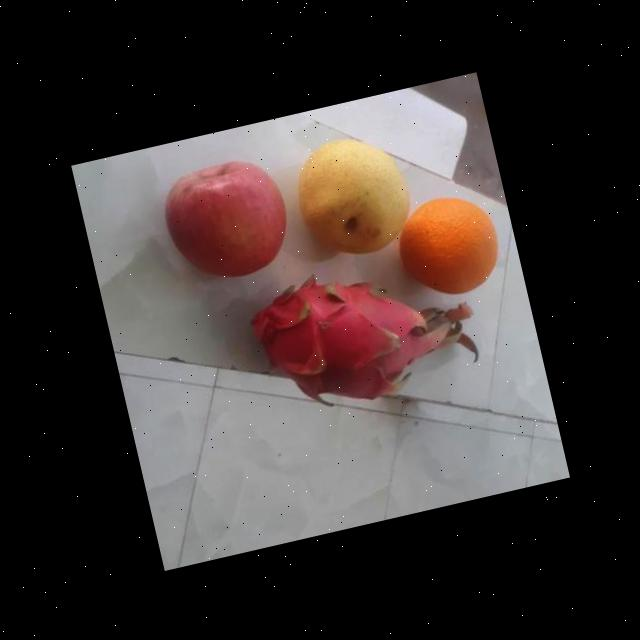apple: (158, 144, 298, 288)
orange: (388, 183, 505, 302)
pear: (290, 123, 418, 264)
pitaya: (243, 250, 444, 419)
